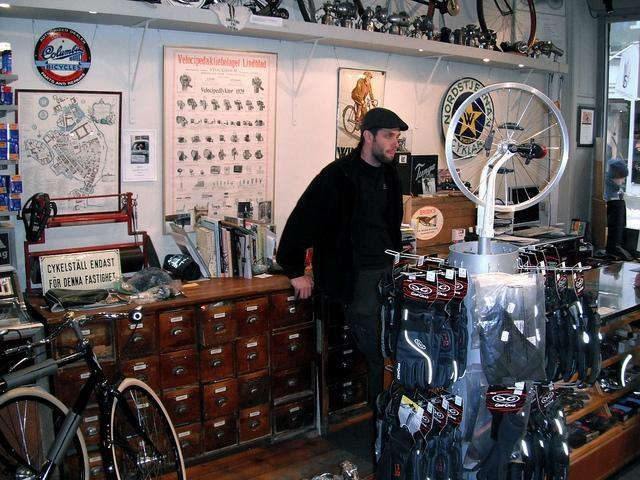bicycle: (1, 309, 190, 480), (0, 326, 91, 480), (352, 0, 538, 56)
